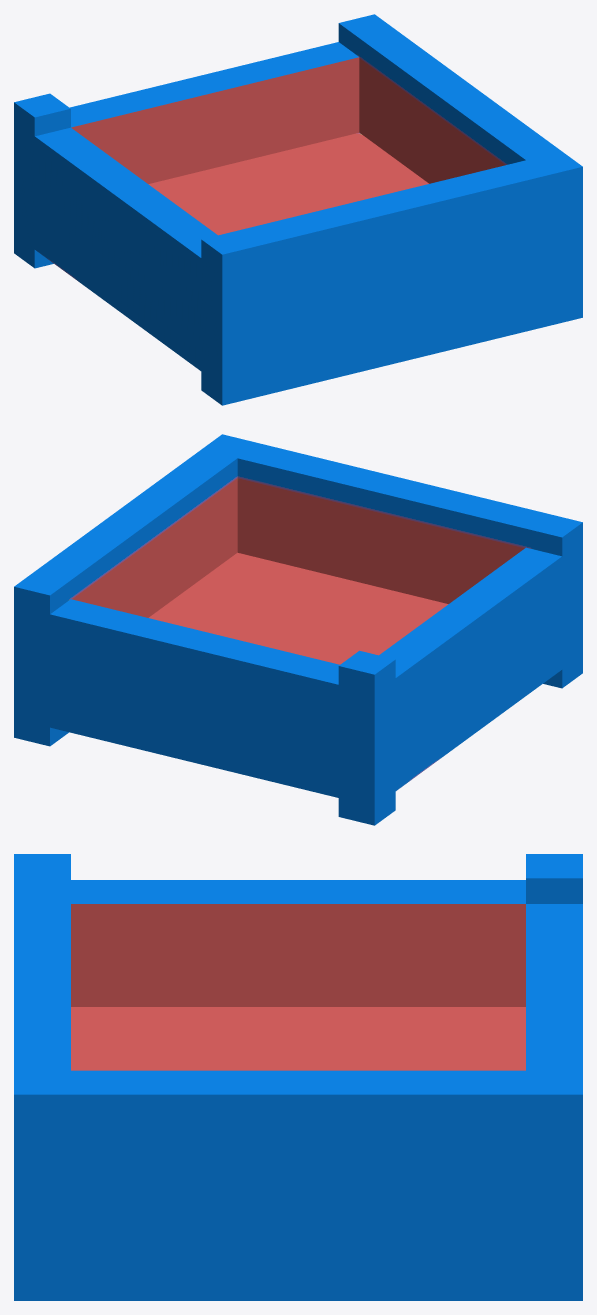
The model's file is conveyor 6.fbx.
The picture shows the model from 3 angles, top to bottom: view 1: azimuth 30°, elevation 25°; view 2: azimuth 150°, elevation 25°; view 3: azimuth 270°, elevation 25°; orthographic projection. The views are drawn at different scales.
Parts seen in each view (by area): view 1: Conveyor.007; view 2: Conveyor.007; view 3: Conveyor.007.
Part boxes in pixels (x1,y1,x2,y2): Conveyor.007: [14, 14, 582, 405]; Conveyor.007: [14, 434, 582, 825]; Conveyor.007: [14, 854, 582, 1300].
Bounding box in the file's own units: 200 × 80 × 200.
1 material, 1 textured.
